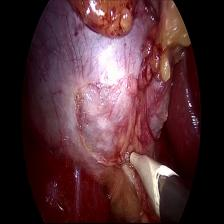Hook: (118, 147, 180, 210)
